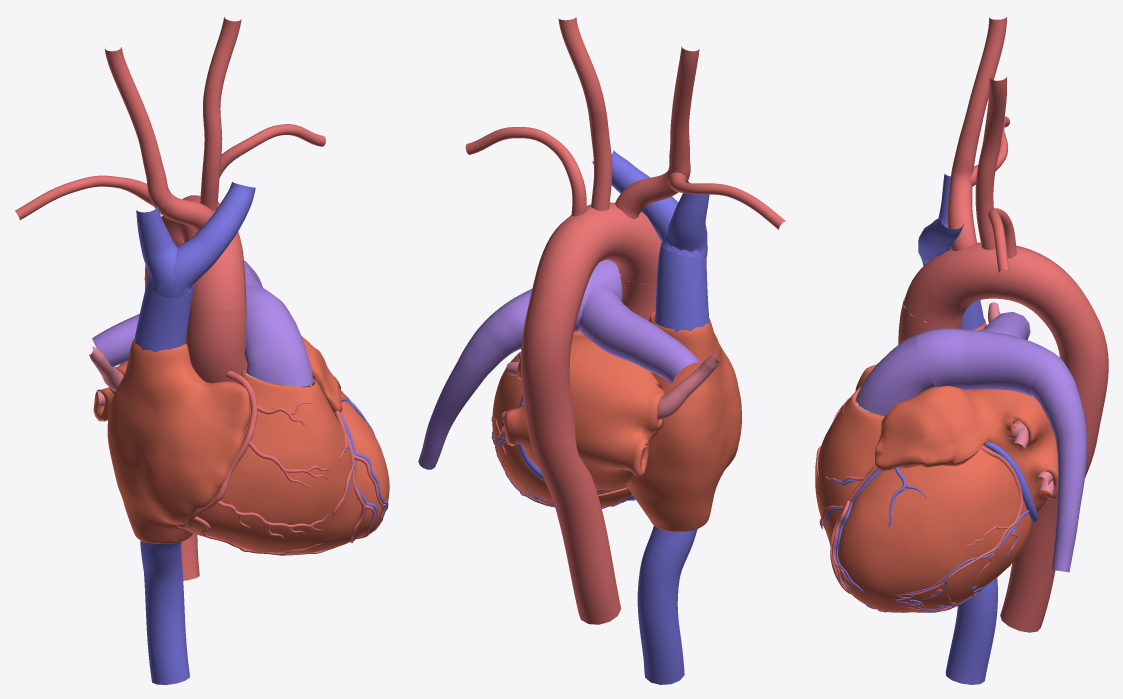
File: heart.glb
The picture shows the model from 3 angles, left to right: view 1: azimuth 30°, elevation 25°; view 2: azimuth 150°, elevation 25°; view 3: azimuth 270°, elevation 25°; orthographic projection. The views are drawn at different scales.
Visible parts, largest first — view 1: Right atrium, Right ventricle, Inferior vena cava (thoracic part), Pulmonary trunk, Left brachiocephalic vein, Ascending aorta, Left common carotid artery, Aortic arch, Right coronary artery, Right common carotid artery, Superior vena cava, Left ventricle (+11 smaller); view 2: Thoracic aorta, Right atrium, Left atrium, Aortic arch, Inferior vena cava (thoracic part), Left pulmonary artery, Right pulmonary artery, Superior vena cava, Left common carotid artery, Left ventricle, Right common carotid artery, Left subclavian artery (+7 smaller); view 3: Left ventricle, Left atrium, Aortic arch, Thoracic aorta, Left pulmonary artery, Right ventricle, Bifurcation of pulmonary trunk, Inferior vena cava (thoracic part), Pulmonary trunk, Right common carotid artery, Left common carotid artery, Great cardiac vein (+9 smaller).
Boxes of the visible parts, bbox=[...] form: Right atrium: bbox=[107, 338, 250, 543]; Right ventricle: bbox=[179, 370, 359, 553]; Inferior vena cava (thoracic part): bbox=[140, 540, 189, 684]; Pulmonary trunk: bbox=[244, 306, 313, 386]; Left brachiocephalic vein: bbox=[148, 182, 255, 298]; Ascending aorta: bbox=[185, 304, 247, 383]; Left common carotid artery: bbox=[200, 16, 241, 210]; Aortic arch: bbox=[161, 195, 246, 311]; Right coronary artery: bbox=[176, 371, 336, 555]; Right common carotid artery: bbox=[104, 47, 171, 207]; Superior vena cava: bbox=[134, 277, 193, 352]; Left ventricle: bbox=[341, 390, 389, 539]; Thoracic aorta: bbox=[521, 304, 621, 624]; Right atrium: bbox=[626, 311, 741, 531]; Left atrium: bbox=[504, 330, 664, 490]; Aortic arch: bbox=[529, 202, 661, 316]; Inferior vena cava (thoracic part): bbox=[637, 525, 697, 684]; Left pulmonary artery: bbox=[418, 289, 532, 469]; Right pulmonary artery: bbox=[592, 305, 701, 383]; Superior vena cava: bbox=[654, 246, 709, 332]; Left common carotid artery: bbox=[558, 17, 612, 210]; Left ventricle: bbox=[492, 355, 631, 507]; Right common carotid artery: bbox=[666, 46, 699, 182]; Left subclavian artery: bbox=[465, 127, 586, 216]; Left ventricle: bbox=[836, 445, 1031, 612]; Left atrium: bbox=[875, 383, 1058, 512]; Aortic arch: bbox=[903, 242, 1093, 334]; Thoracic aorta: bbox=[1000, 311, 1108, 632]; Left pulmonary artery: bbox=[997, 336, 1087, 572]; Right ventricle: bbox=[815, 386, 884, 544]; Bifurcation of pulmonary trunk: bbox=[917, 327, 1011, 389]; Inferior vena cava (thoracic part): bbox=[945, 577, 997, 684]; Pulmonary trunk: bbox=[856, 334, 935, 414]; Right common carotid artery: bbox=[950, 17, 1006, 181]; Left common carotid artery: bbox=[975, 76, 1006, 249]; Great cardiac vein: bbox=[823, 442, 1033, 594].
Size of the model in its own units: 0.1705 by 0.3161 by 0.1307.
